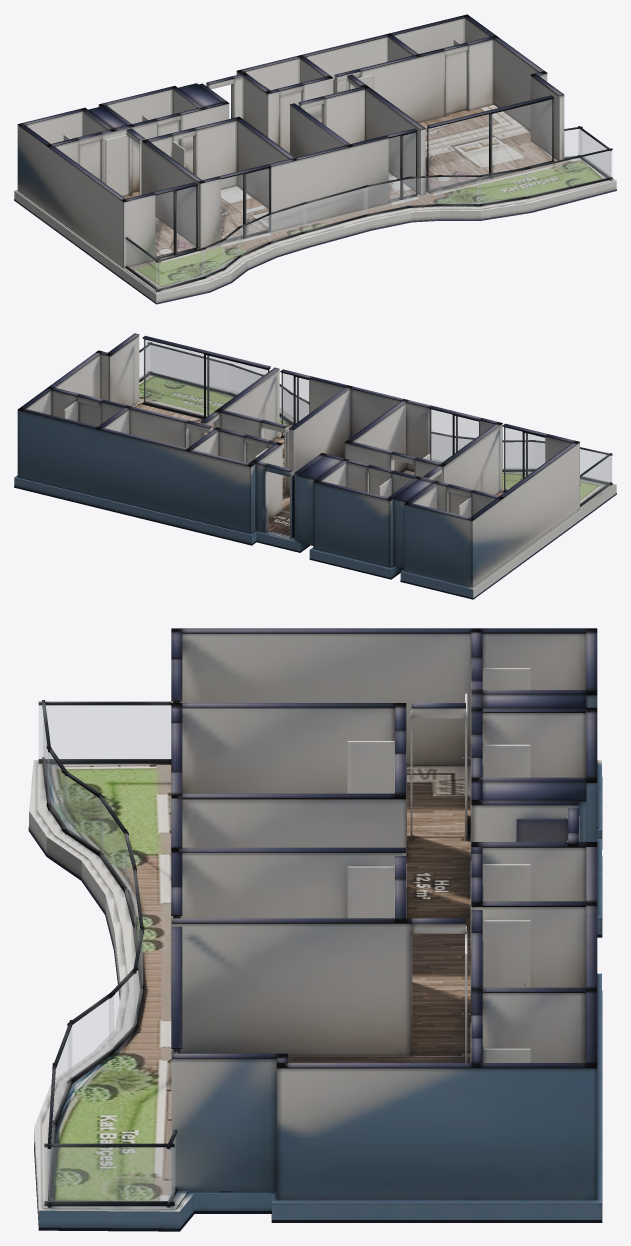
3 views of the same model, one above another, from view 1: azimuth 30°, elevation 25°; view 2: azimuth 150°, elevation 25°; view 3: azimuth 270°, elevation 25° (orthographic). The views are drawn at different scales.
Parts seen in each view (by area): view 1: plan, glass3_m, glass1_m, glass0_m, railg3_m, railg9_m, railg4_m, glass2_m, railg8_m, railg7_m, railg5_m, railg10_m (+7 smaller); view 2: plan, glass3_m, railg3_m, glass0_m, glass1_m, glass2_m, railg2_m, railg8_m, railg12_m, railg10_m, railg4_m; view 3: plan, railg1_m, railg2_m, railg5_m, railg12_m, railg6_m, railg11_m, railg13_m, railg4_m.
Part boxes in pixels (box(x1,y1,x2,y2)): plan: box(14, 14, 616, 304); glass3_m: box(428, 99, 551, 190); glass1_m: box(221, 169, 268, 239); glass0_m: box(155, 186, 195, 257); railg3_m: box(525, 151, 611, 196); railg9_m: box(303, 187, 367, 231); railg4_m: box(477, 169, 529, 204); glass2_m: box(389, 133, 415, 200); railg8_m: box(156, 250, 205, 289); railg7_m: box(364, 179, 410, 214); railg5_m: box(437, 177, 481, 203); railg10_m: box(268, 204, 306, 241); plan: box(14, 333, 616, 599); glass3_m: box(144, 339, 267, 416); railg3_m: box(151, 345, 228, 391); glass0_m: box(504, 427, 544, 490); glass1_m: box(430, 409, 478, 462); glass2_m: box(281, 373, 308, 435); railg2_m: box(580, 456, 610, 504); railg8_m: box(580, 449, 611, 482); railg12_m: box(503, 442, 531, 469); railg10_m: box(432, 434, 451, 462); railg4_m: box(232, 366, 261, 394); plan: box(28, 628, 602, 1231); railg1_m: box(44, 1147, 174, 1201); railg2_m: box(39, 705, 170, 759); railg5_m: box(69, 996, 113, 1080); railg12_m: box(63, 774, 102, 853); railg6_m: box(109, 972, 136, 1052); railg11_m: box(99, 799, 126, 889); railg13_m: box(48, 752, 67, 830); railg4_m: box(54, 1028, 71, 1123).
Bounding box in the file's own units: 16.57 × 2.62 × 8.89.
Materials: 2 (1 with a texture image).
